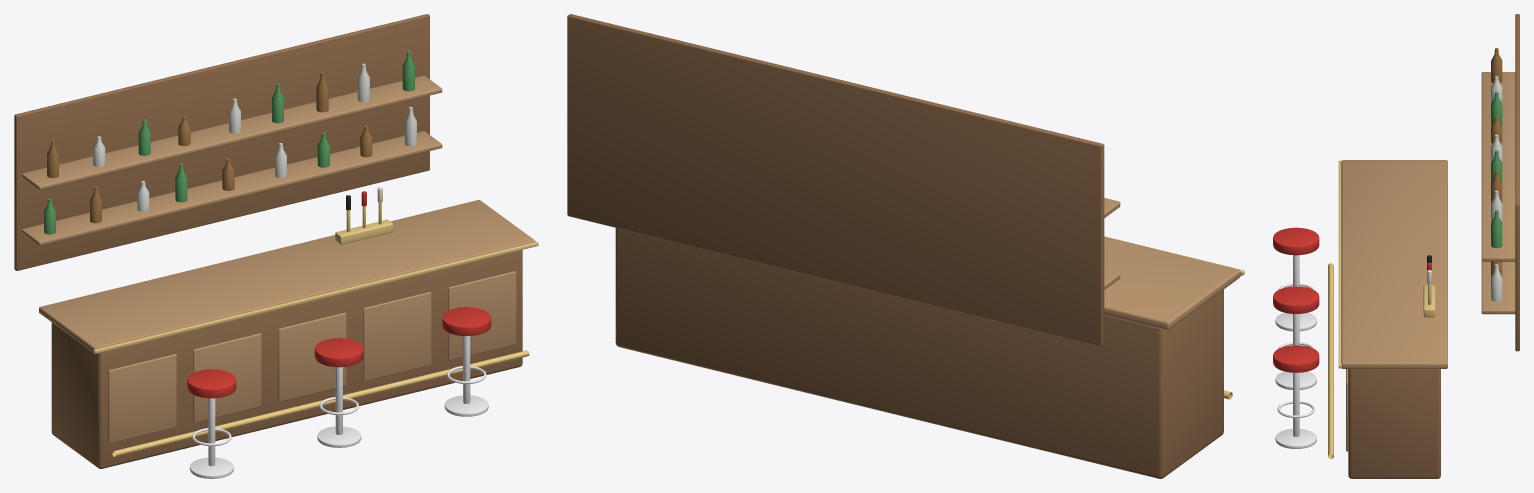
File: clubbar.glb
3 renders of one model, left to right at view 1: azimuth 30°, elevation 25°; view 2: azimuth 150°, elevation 25°; view 3: azimuth 270°, elevation 25°, orthographic. The views are drawn at different scales.
Parts seen in each view (by area): view 1: backboard, counter, top, backshelf, backshelf2, panel0, panel3, panel2, panel1, panel4, footrail, toprim (+7 smaller); view 2: backboard, counter, top; view 3: top, counter, backshelf2, backboard, backshelf, footrail, seat2, seat1, seat0, toprim, foot2, foot0 (+7 smaller).
Part boxes in pixels (box(x1,y1,x2,y2)): backboard: box(14, 14, 429, 270); counter: box(51, 250, 522, 468); top: box(39, 200, 535, 352); backshelf: box(21, 131, 442, 245); backshelf2: box(21, 75, 442, 190); panel0: box(108, 354, 176, 443); panel3: box(363, 292, 431, 381); panel2: box(278, 312, 346, 401); panel1: box(193, 333, 261, 422); panel4: box(448, 271, 516, 360); footrail: box(112, 350, 529, 456); toprim: box(93, 241, 538, 353); backboard: box(567, 14, 1104, 345); counter: box(615, 228, 1223, 478); top: box(1104, 236, 1240, 329); top: box(1341, 160, 1447, 368); counter: box(1348, 369, 1440, 478); backshelf2: box(1481, 72, 1515, 261); backboard: box(1515, 14, 1519, 351); backshelf: box(1481, 261, 1515, 314); footrail: box(1328, 263, 1333, 459); seat2: box(1273, 345, 1319, 372); seat1: box(1273, 286, 1319, 313); seat0: box(1273, 227, 1319, 255); toprim: box(1338, 160, 1341, 368); foot2: box(1275, 429, 1316, 448); foot0: box(1275, 312, 1316, 331).
Size of the model in its own units: 4.18 by 2.6 by 2.13.
